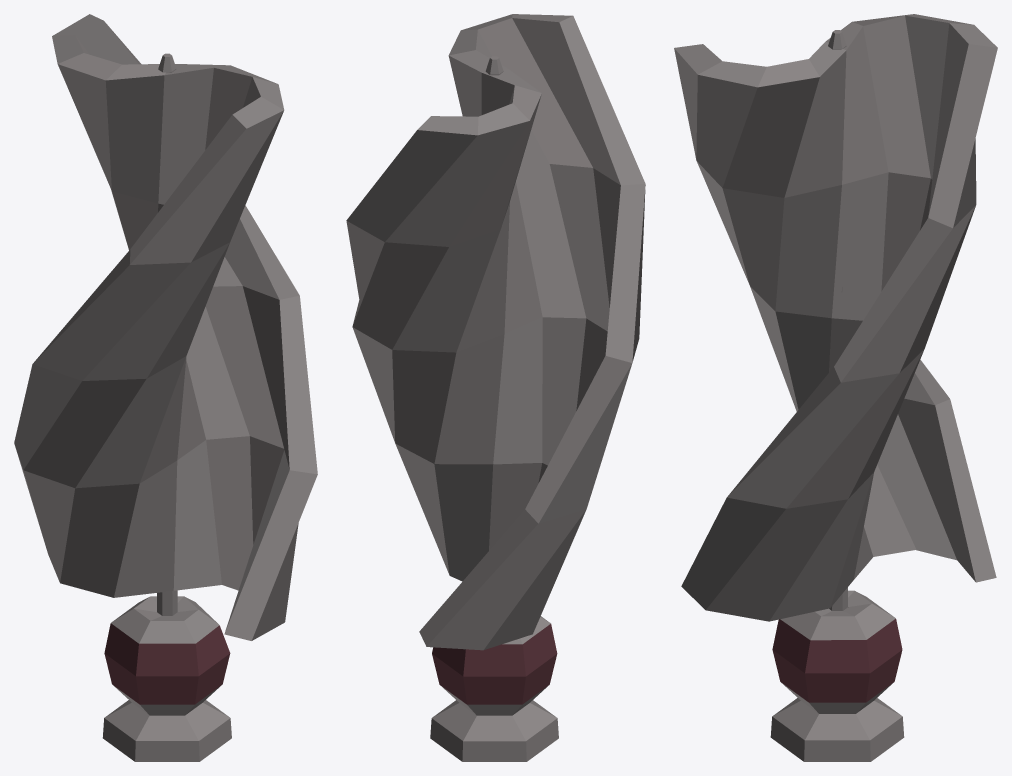
Rendered from scifi-wind-turbine.fbx.
3 renders of one model, left to right at view 1: azimuth 30°, elevation 25°; view 2: azimuth 150°, elevation 25°; view 3: azimuth 270°, elevation 25°, orthographic. The views are drawn at different scales.
Parts seen in each view (by area): view 1: scifi-wind-turbine-main, scifi-wind-turbine-base; view 2: scifi-wind-turbine-main, scifi-wind-turbine-base; view 3: scifi-wind-turbine-main, scifi-wind-turbine-base.
Part boxes in pixels (left/top/right/bottom): scifi-wind-turbine-main: left=14, top=14, right=317, bottom=640; scifi-wind-turbine-base: left=102, top=596, right=231, bottom=761; scifi-wind-turbine-main: left=346, top=14, right=645, bottom=650; scifi-wind-turbine-base: left=430, top=616, right=558, bottom=761; scifi-wind-turbine-main: left=674, top=14, right=997, bottom=621; scifi-wind-turbine-base: left=770, top=590, right=904, bottom=761.
Bounding box in the file's own units: 1.05 × 2.54 × 1.05.
